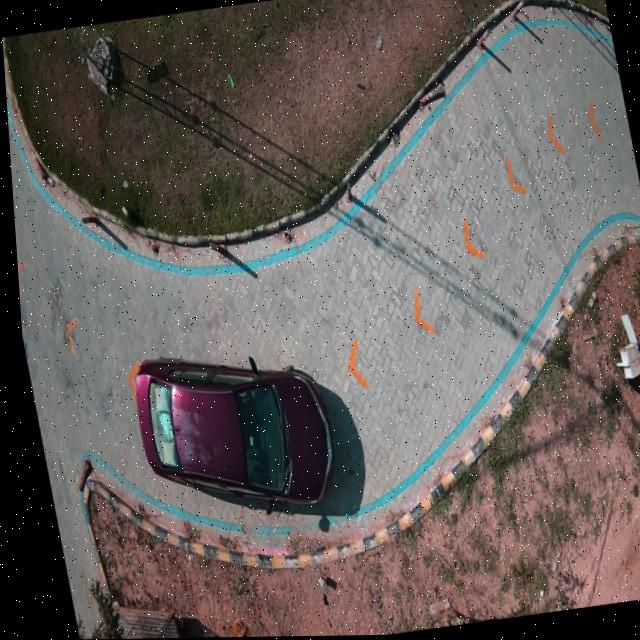car: (129, 355, 329, 505)
